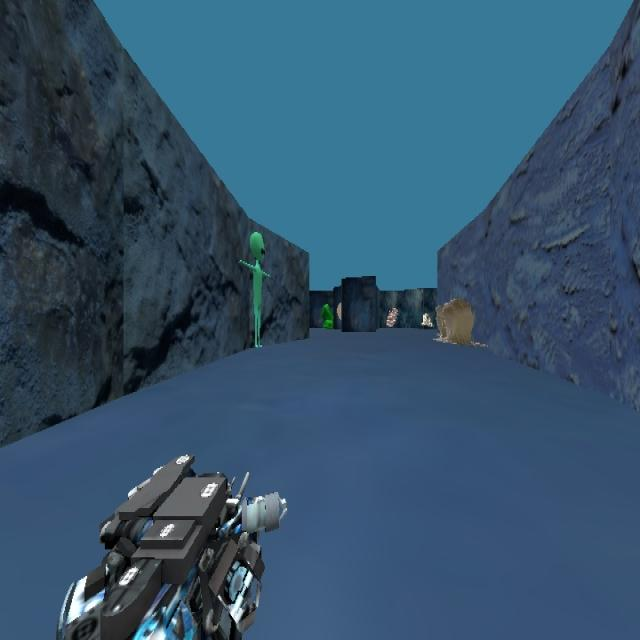Alien: (237, 229, 271, 348)
Ice: (434, 296, 474, 344)
